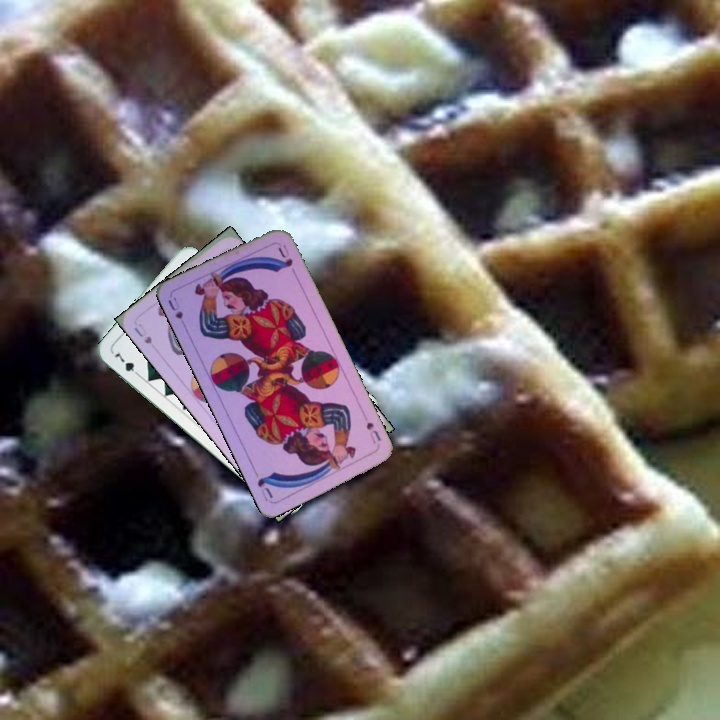G7: (110, 349, 143, 380)
SU: (164, 293, 190, 332), (359, 411, 384, 449), (130, 320, 155, 347)
